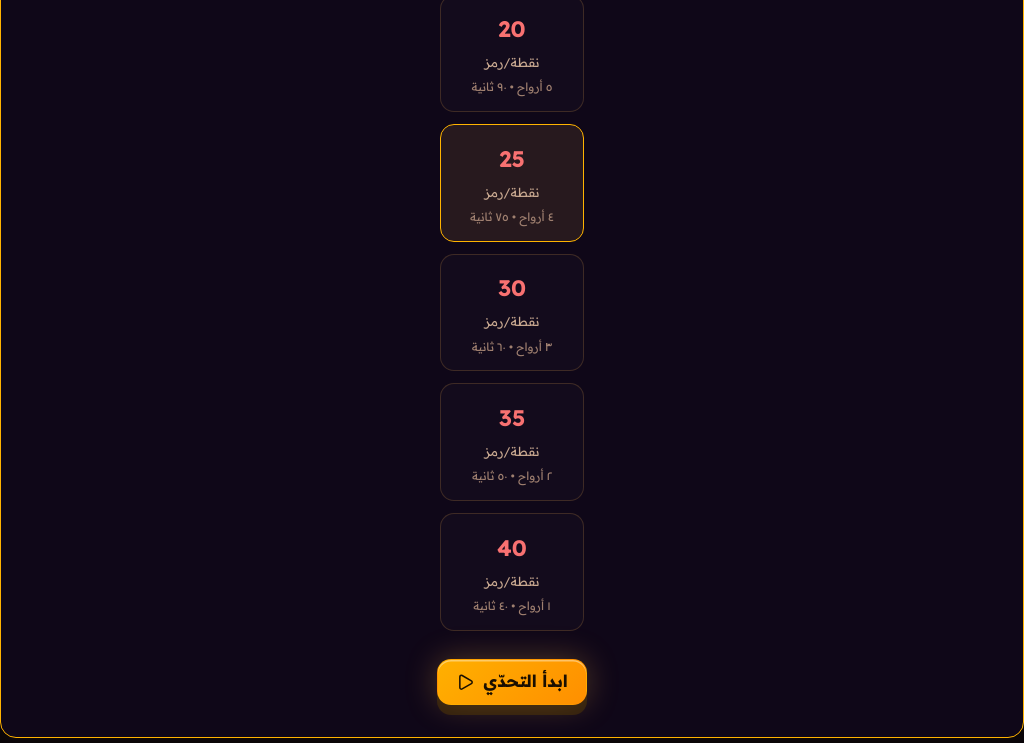
Test: MemoryFlash › escalates the memory sequence after a correct level
This screenshot has width=1024, height=743.
(page scrolled)
Step 1. Click the button "ابدأ التحدّي" → (512, 682), box x1=437 y1=659 x2=587 y2=705
Wait 1200 ms
(page scrolled)
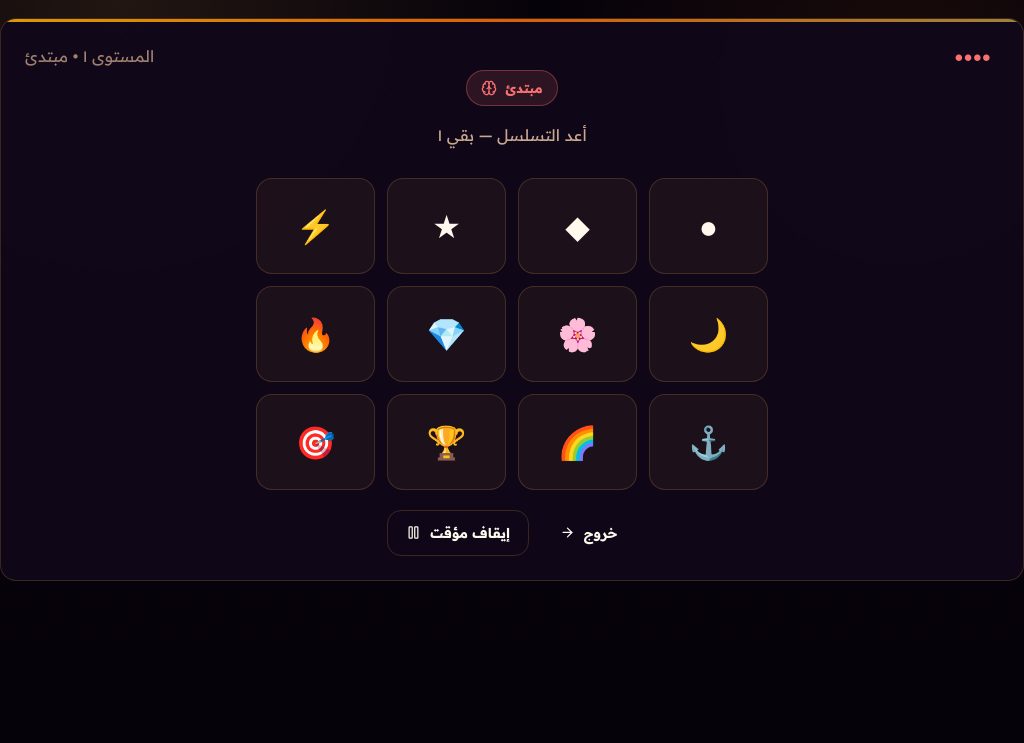
Step 2. Click the button named "برق" → (316, 226), box x1=256 y1=178 x2=375 y2=274
Wait 1500 ms
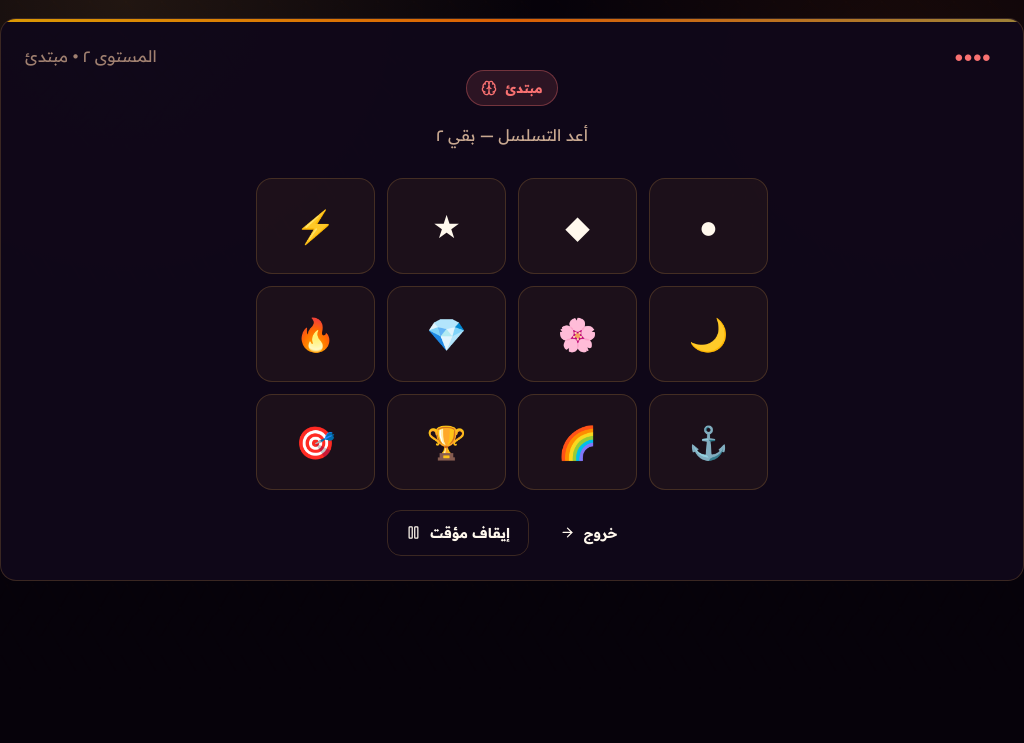
Check: the text "المستوى ٢ • مبتدئ" is shown, box x1=25 y1=43 x2=157 y2=70
